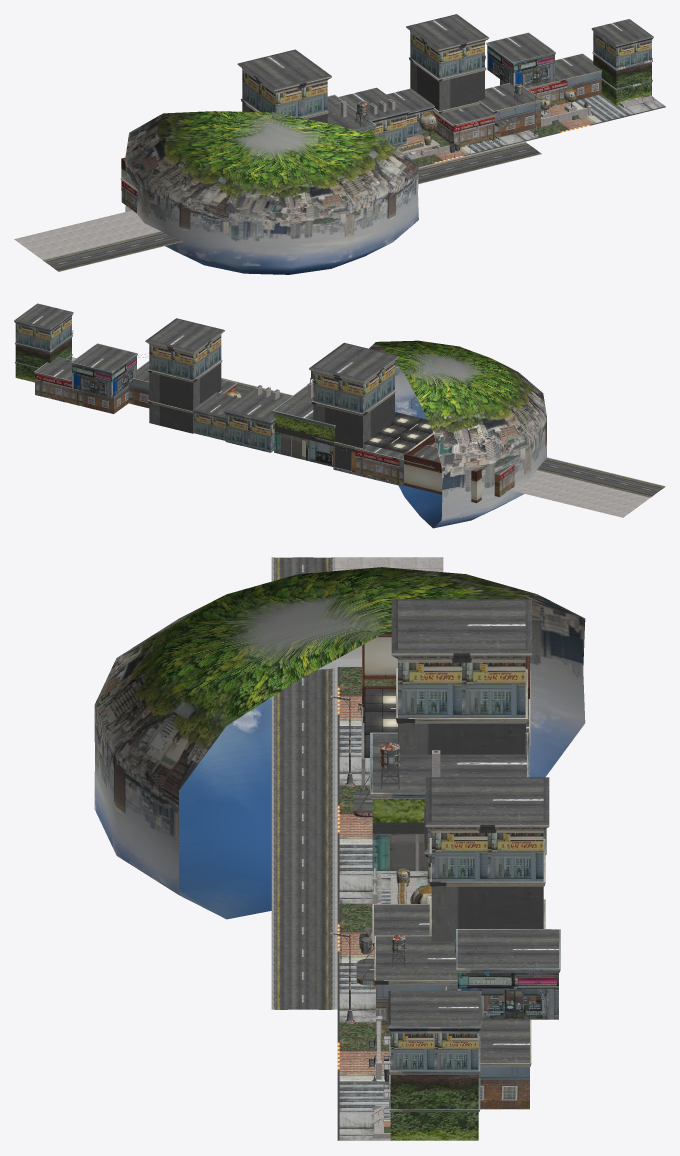
The model's file is Store_Tech.glb.
The picture shows the model from 3 angles, top to bottom: view 1: azimuth 30°, elevation 25°; view 2: azimuth 150°, elevation 25°; view 3: azimuth 270°, elevation 25°; orthographic projection. The views are drawn at different scales.
Visible parts, largest first — view 1: Store_Tech; view 2: Store_Tech; view 3: Store_Tech.
Part boxes in pixels (x1,y1,x2,y2): Store_Tech: (14,14,665,274); Store_Tech: (14,303,665,528); Store_Tech: (94,557,585,1140).
Size of the model in its own units: 598 by 136 by 212.
Materials: 25 (24 with a texture image).
